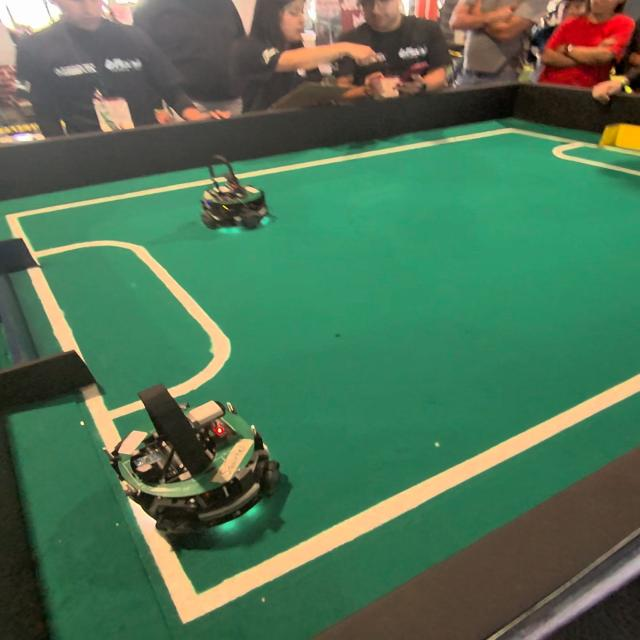Robot: (98, 377, 301, 557), (195, 159, 276, 236)
